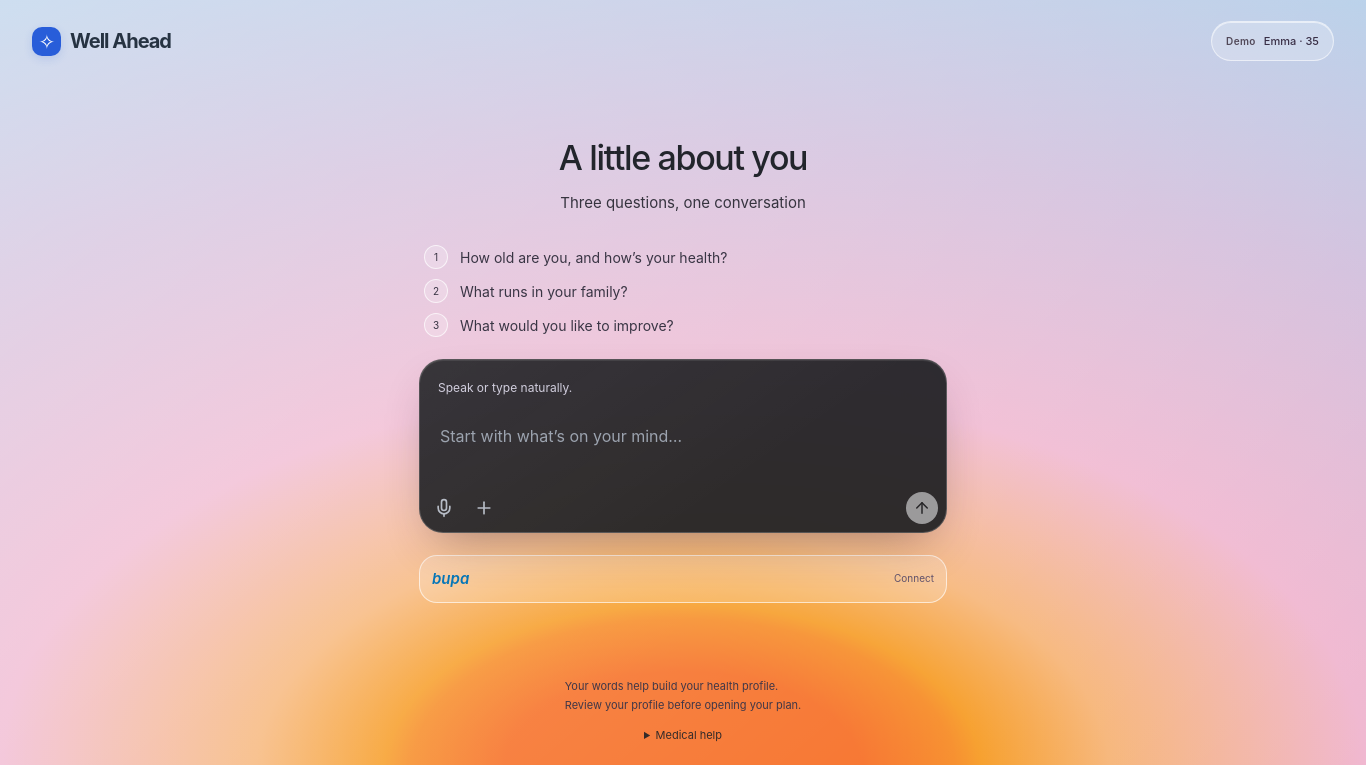
Test case: leaving the example restores the original story and selected note without mixing profile records
The width and height of the screenshot is (1366, 765).
Step 1. Type "My own draft." into the text box → (683, 449), box x1=428 y1=414 x2=938 y2=484
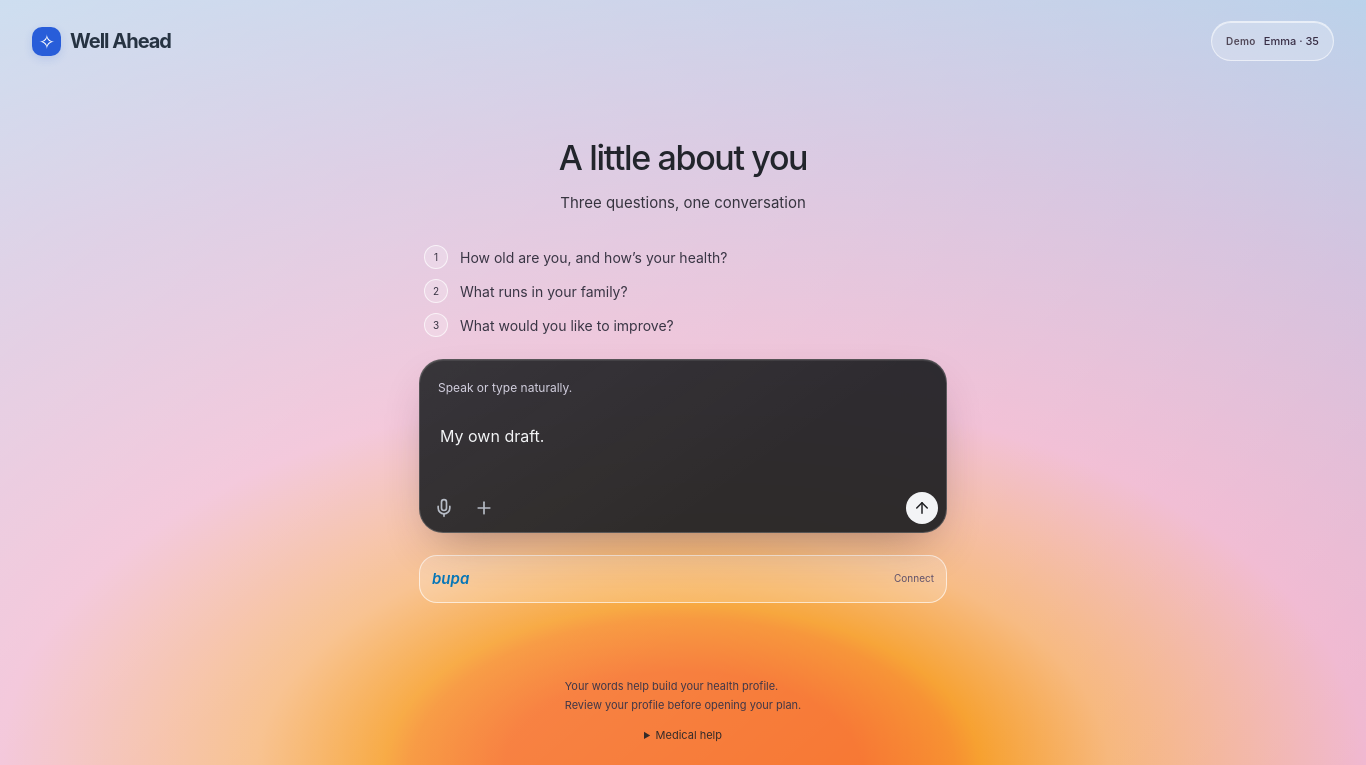
Step 2. Click the button named "Add a record" → (484, 508), box x1=468 y1=492 x2=500 y2=524
(page scrolled)
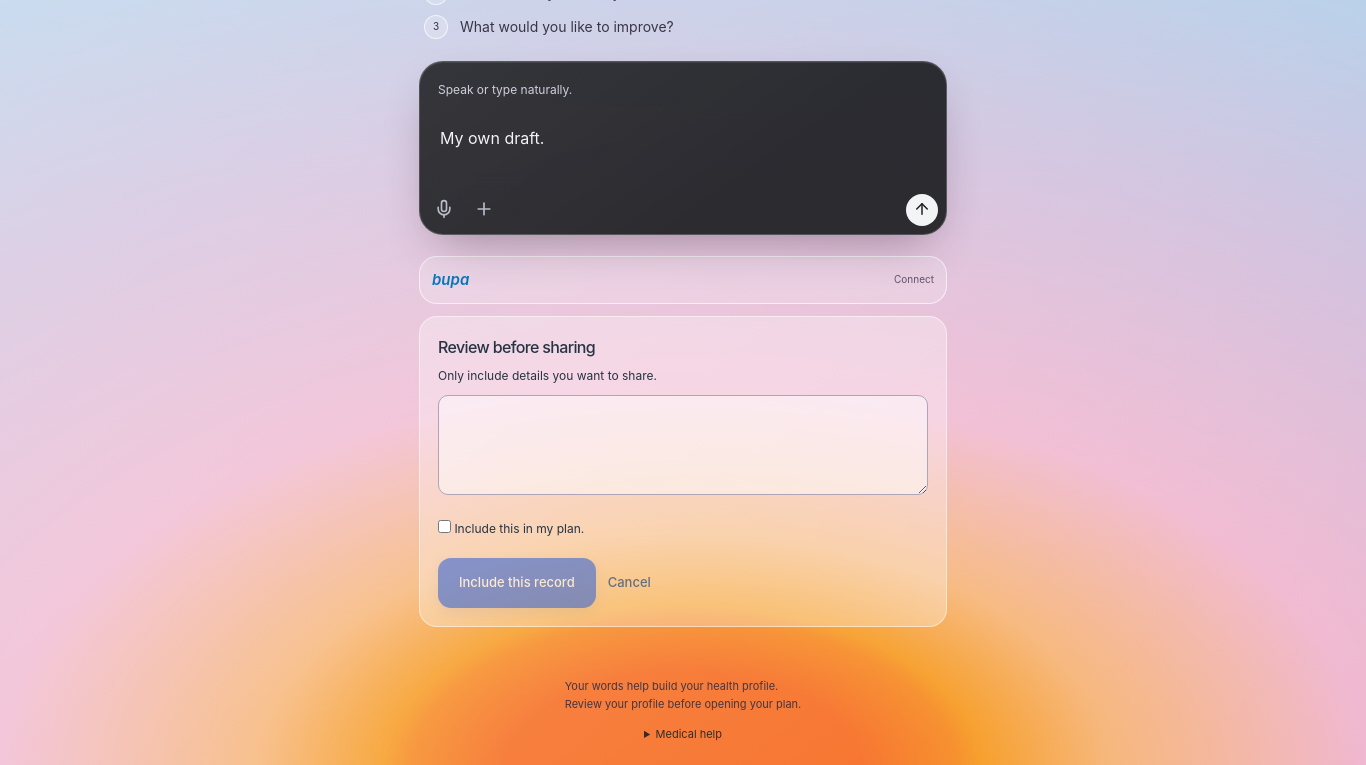
Step 3. Type "My selected note." into the text box labelled "Only include details you want to share." → (683, 445), box x1=438 y1=395 x2=928 y2=495
Step 4. Click the checkbox labelled "Include this in my plan." → (444, 527), box x1=438 y1=520 x2=451 y2=533
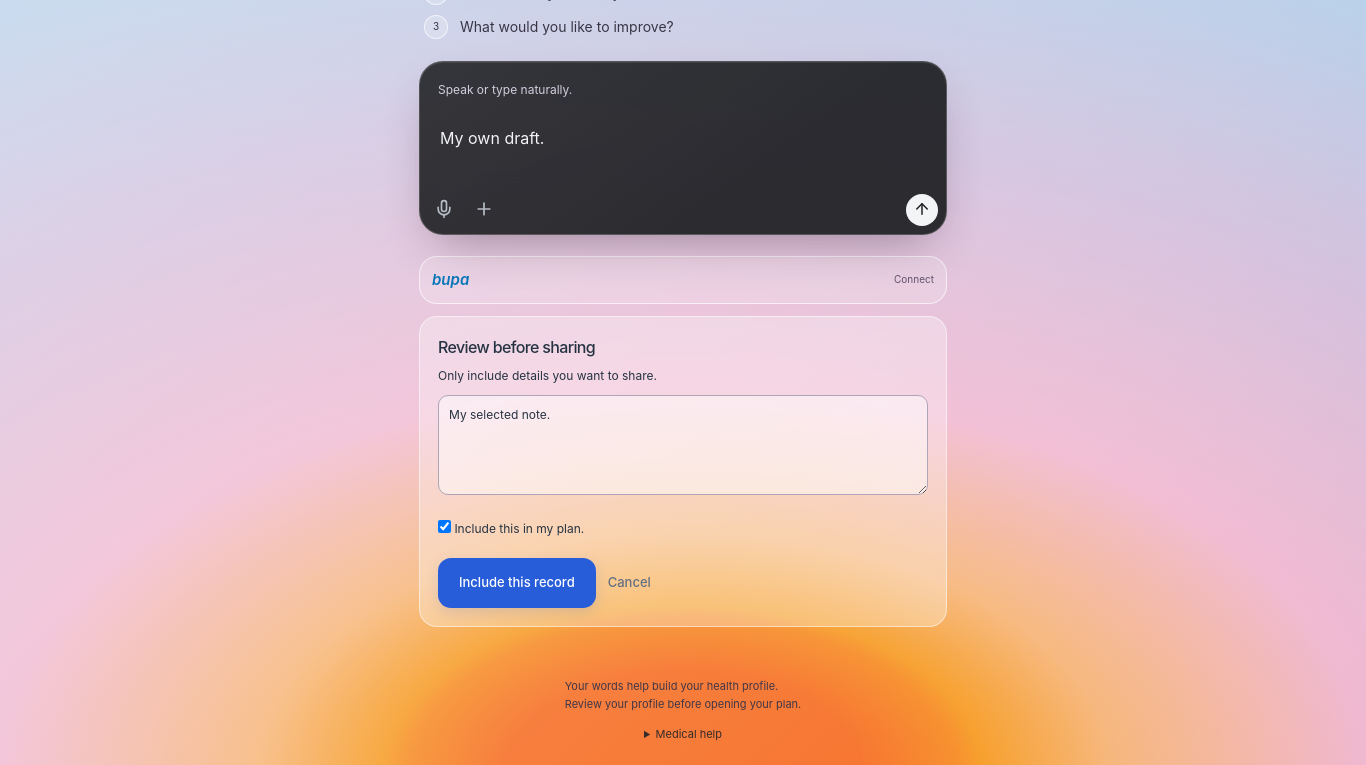
Step 5. Click the button "Include this record" → (517, 583), box x1=438 y1=558 x2=596 y2=608
(page scrolled)
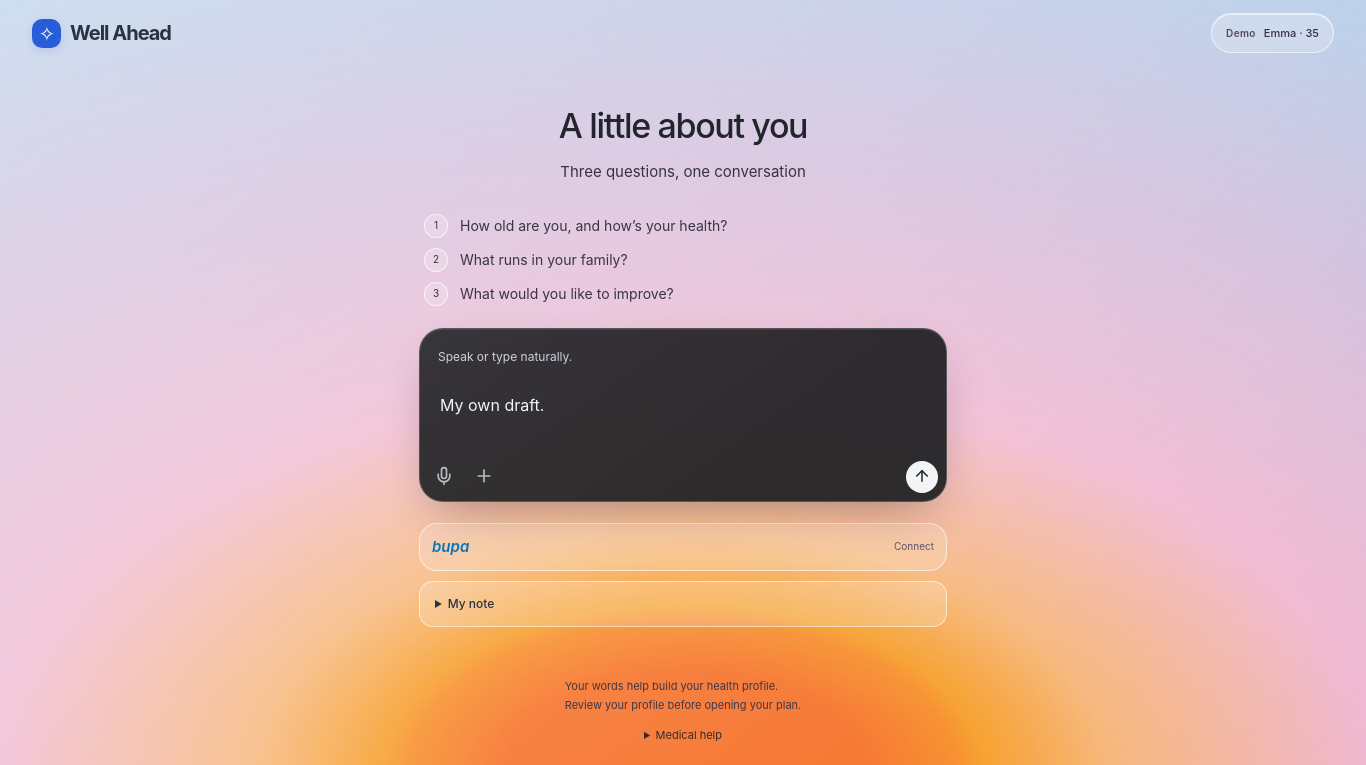
Step 6. Click the button with aria-label "Emma demo, age 35" → (1272, 33), box x1=1211 y1=13 x2=1334 y2=53
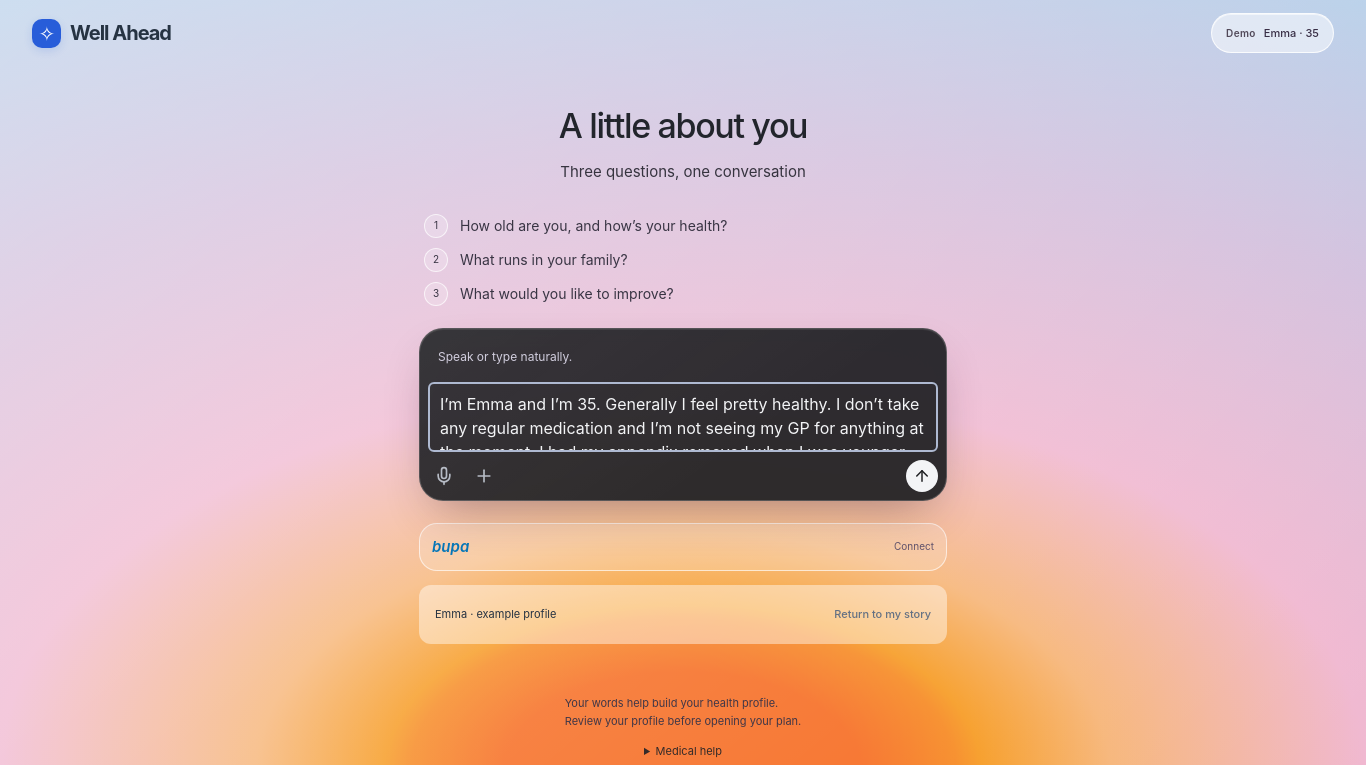
Expected: the text "My selected note." is not shown
Step 7. Click the button with aria-label "Emma demo, age 35" → (1272, 33), box x1=1211 y1=13 x2=1334 y2=53
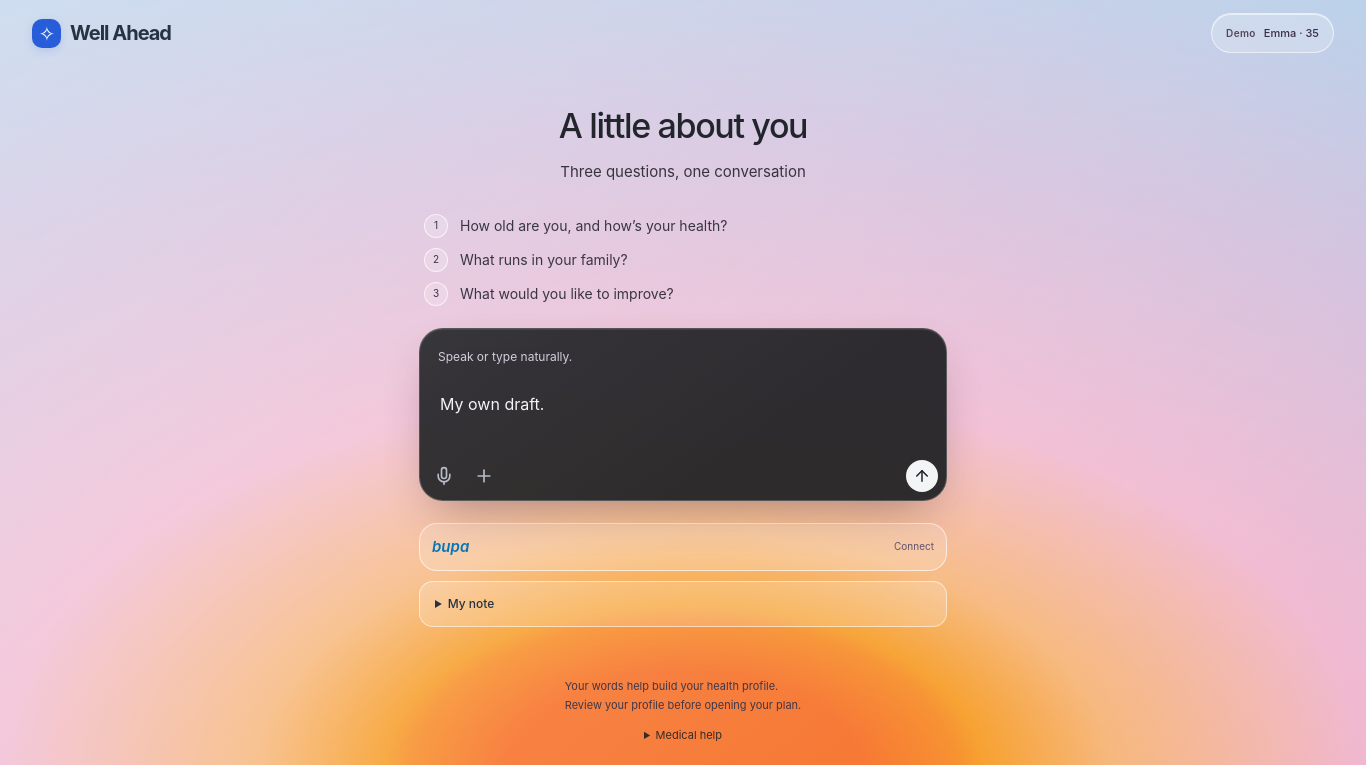
Expected: the text box holds "My own draft.", x1=428 y1=382 x2=938 y2=452
